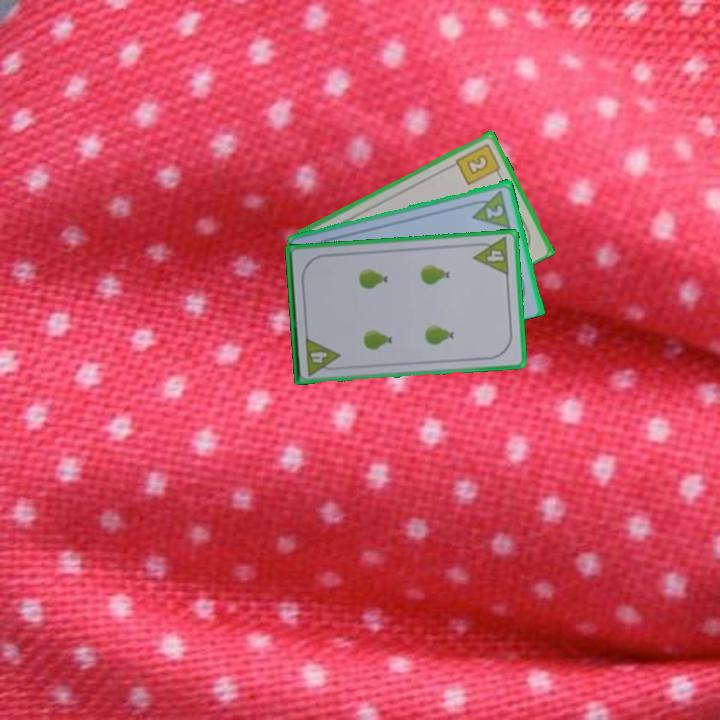2b: (453, 140, 504, 187)
2p: (466, 186, 513, 230)
4p: (469, 234, 512, 278), (302, 334, 343, 378)
